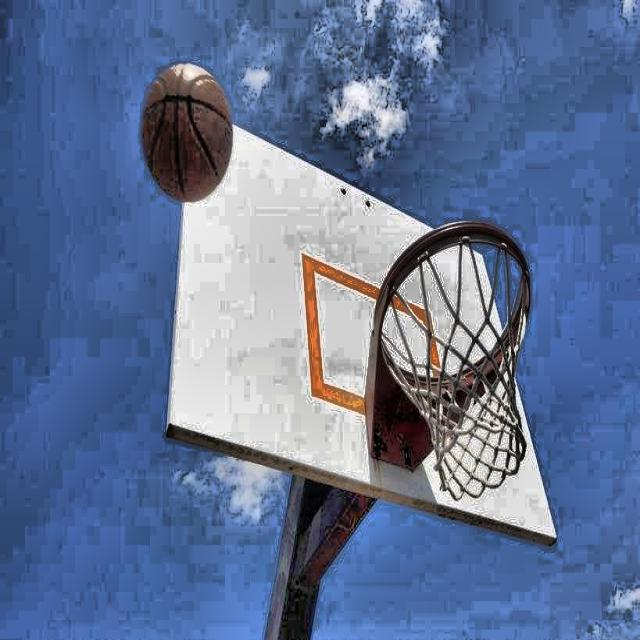board: (142, 63, 233, 201)
rim: (374, 222, 532, 498)
